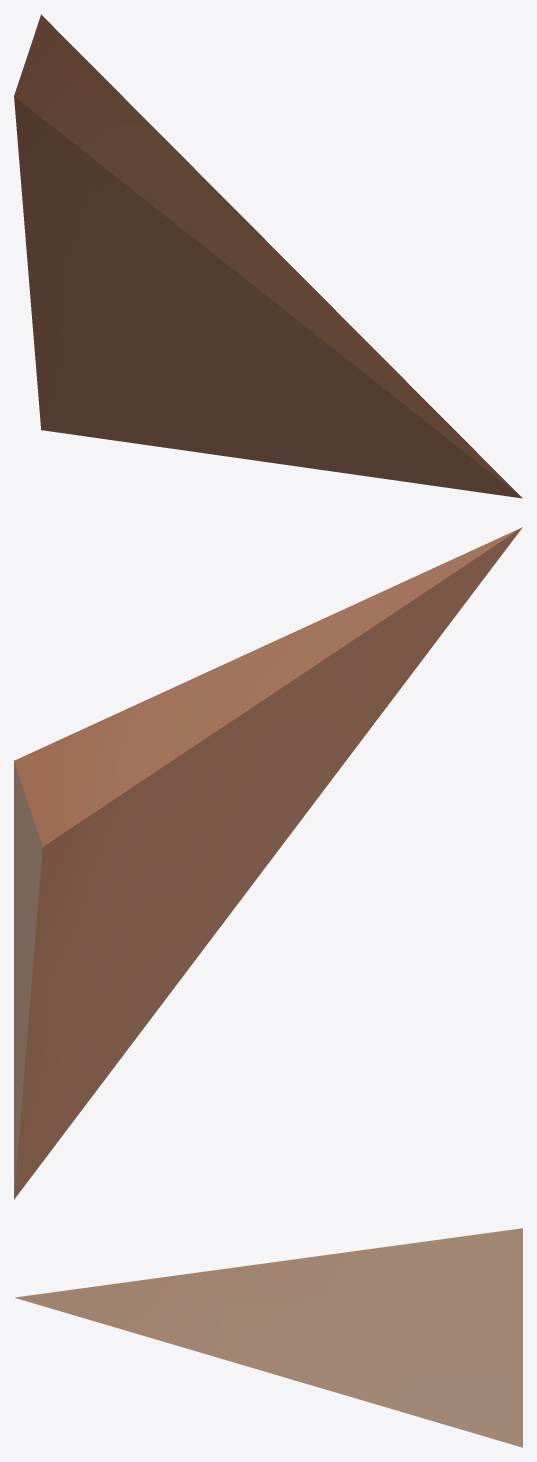
Rendered from wall2_upper_door_s09.fbx.
3 views of the same model, one above another, from view 1: azimuth 30°, elevation 25°; view 2: azimuth 150°, elevation 25°; view 3: azimuth 270°, elevation 25° (orthographic). The views are drawn at different scales.
Parts seen in each view (by area): view 1: wall2_upper_door_s09; view 2: wall2_upper_door_s09; view 3: wall2_upper_door_s09.
Part boxes in pixels (x1,y1,x2,y2): wall2_upper_door_s09: (14, 14, 522, 498); wall2_upper_door_s09: (14, 527, 522, 1199); wall2_upper_door_s09: (15, 1228, 522, 1447).
Bounding box in the file's own units: 0.00903 × 0.1321 × 0.2775.
